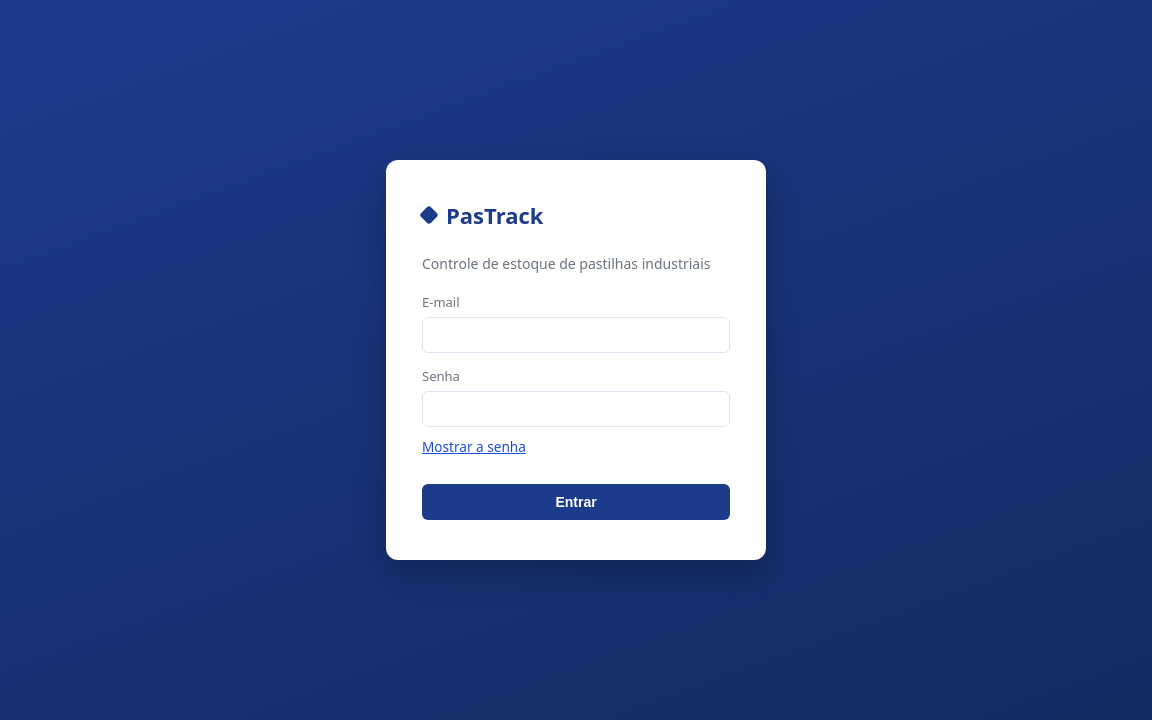
Scenario: página de login › com credenciais válidas, grava a sessão e leva ao painel
The image size is (1152, 720).
Type "admin@pastrack.com" into the field labelled "E-mail" at (576, 335), box [422,317,730,353]
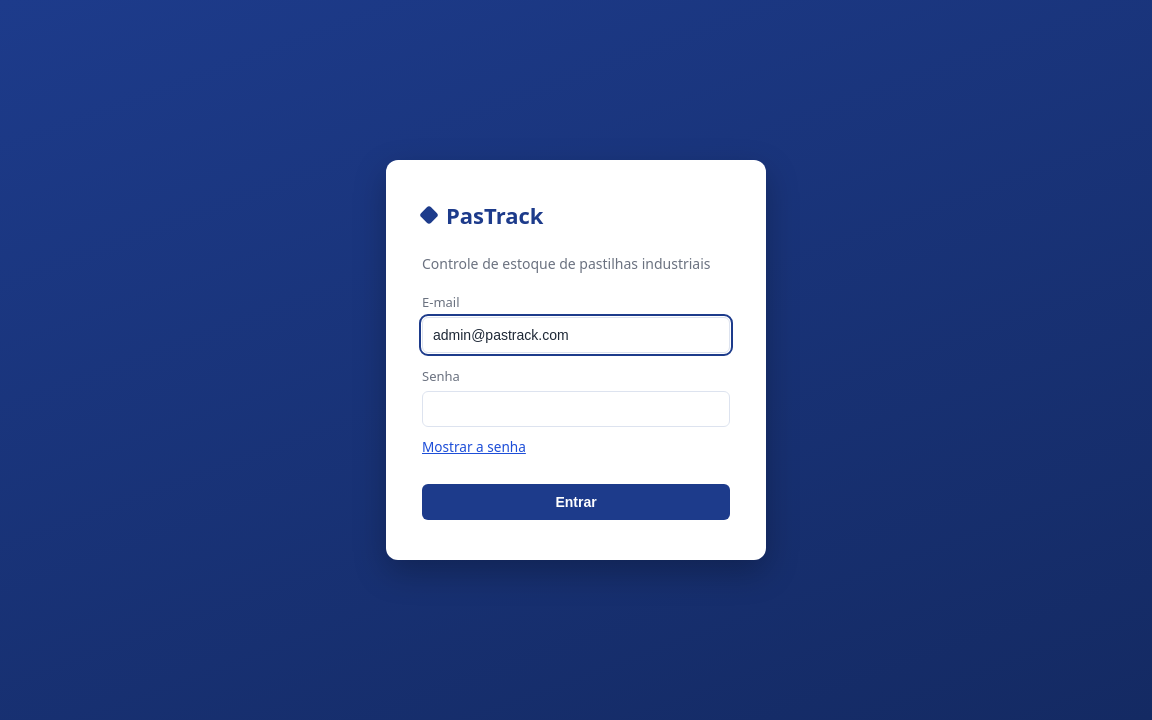
Type "senha-correta" into the password field labelled "Senha" at (576, 409), box [422,391,730,427]
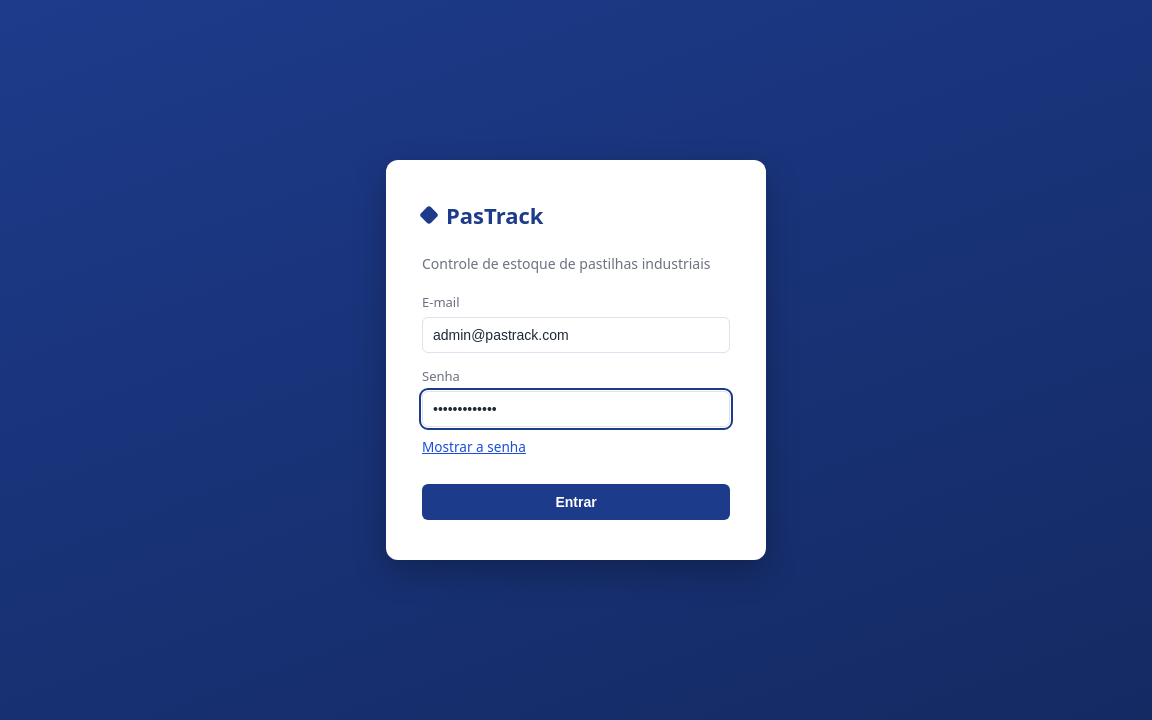
Click the button "Entrar" at (576, 502), box [422,484,730,520]
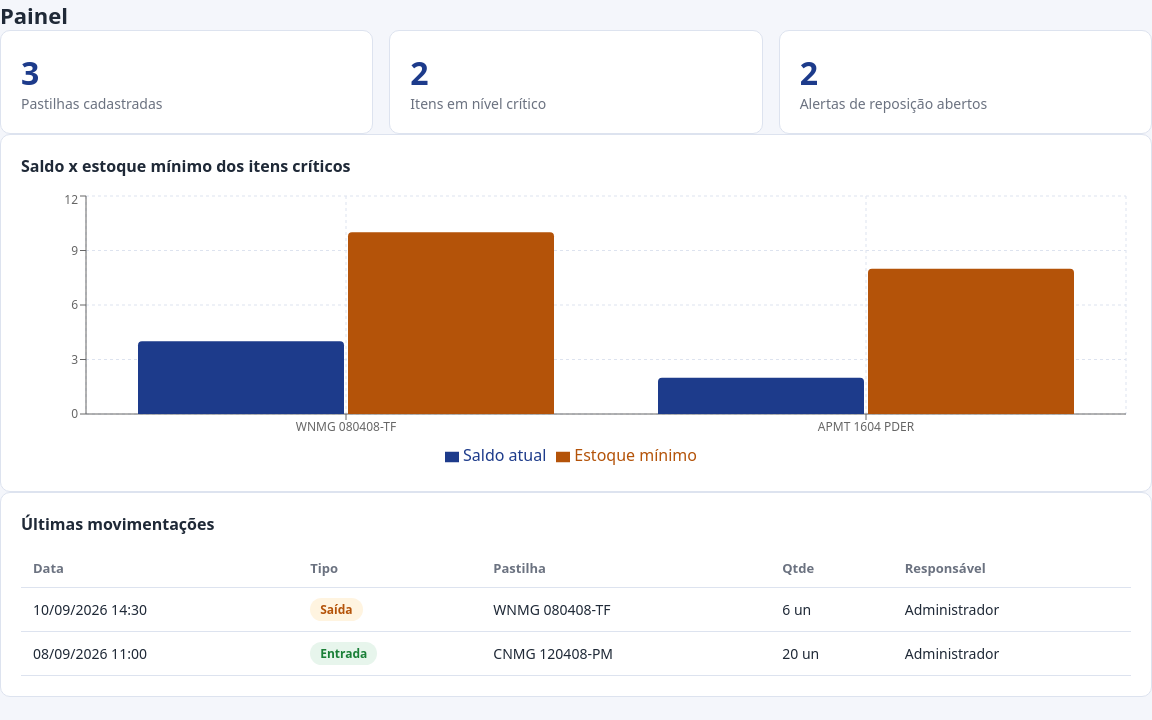
Now the heading "Painel" is shown, box [0,0,68,30]
